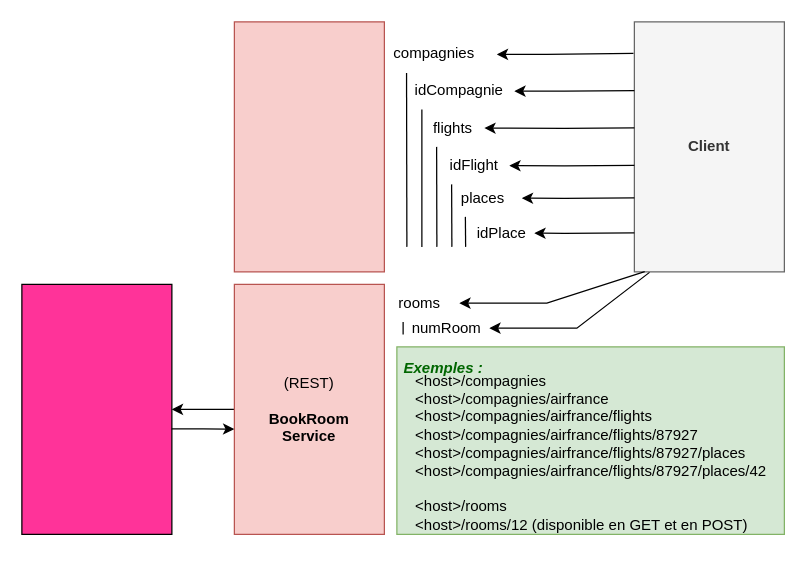
The diagram is 806 pixels wide and 574 high, and some of its shapes have lost their labels. The shapes that lost their labels are listed below. From the top down, each one's centre as x and y in pixels, then its label:
At point (308, 146): "(REST) FlightReservation Service".
At point (96, 408): "(gRPC) BookRoom Service".
